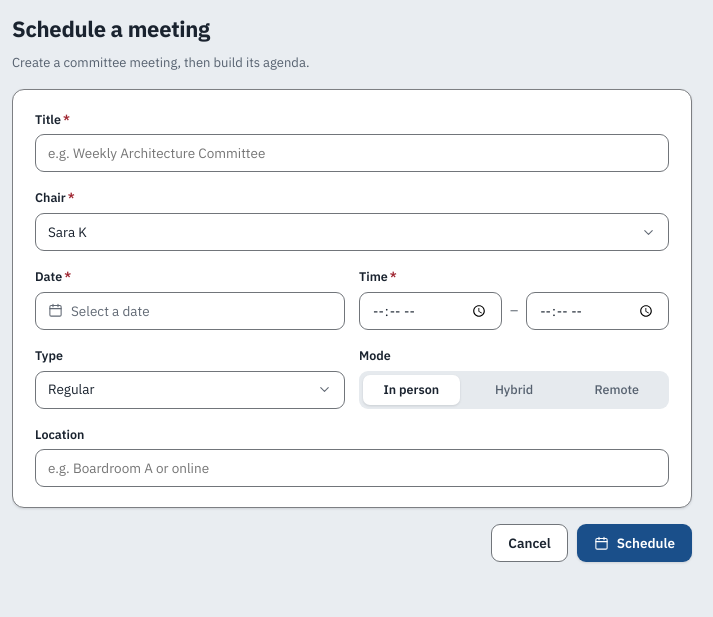
Test case: SchedulePage (P6 / PR-B) › blocks submit and flags the date when no date is picked
Type "Q2 review" into the field labelled "Title*" at (352, 153), box [35,134,669,172]
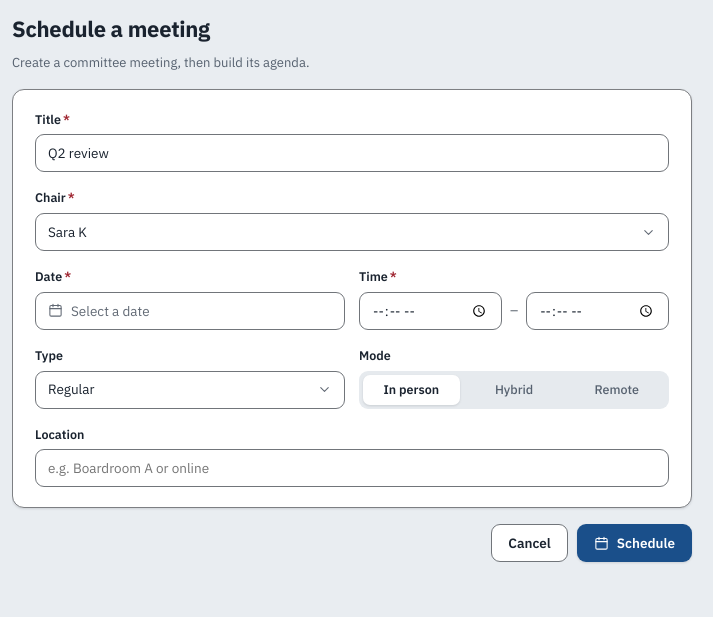
Type "09:00" into the time field named "Start time" at (430, 311), box [359,292,502,330]
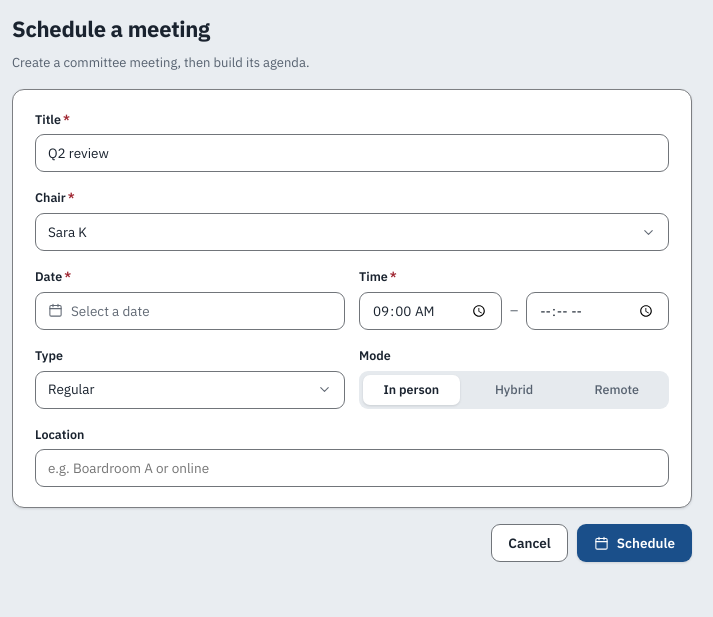
Type "10:30" into the time field named "End time" at (598, 311), box [526,292,669,330]
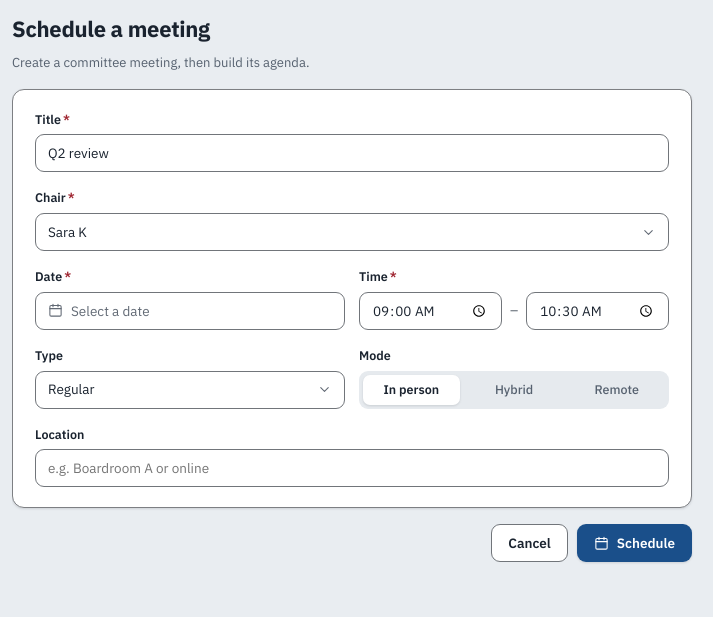
Click the button "Schedule" at (634, 543), box [577,524,692,562]
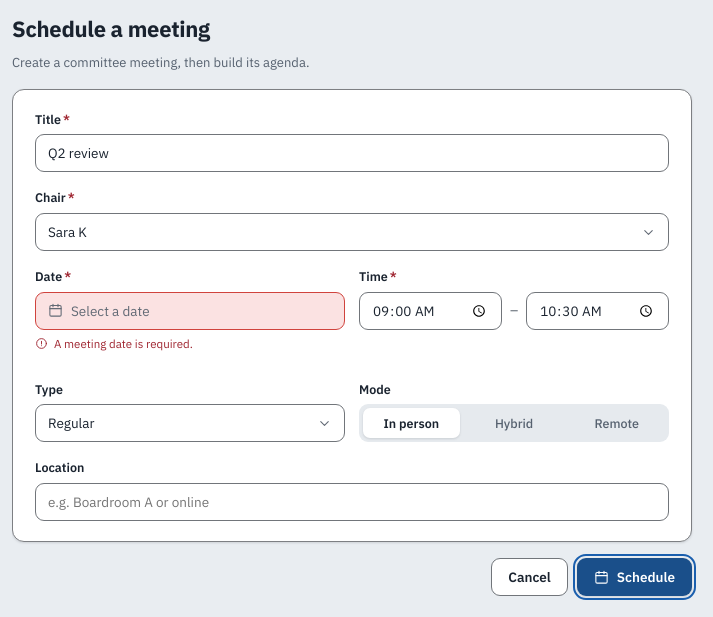
Now the text "A meeting date is required." is shown, box [35,336,193,351]
